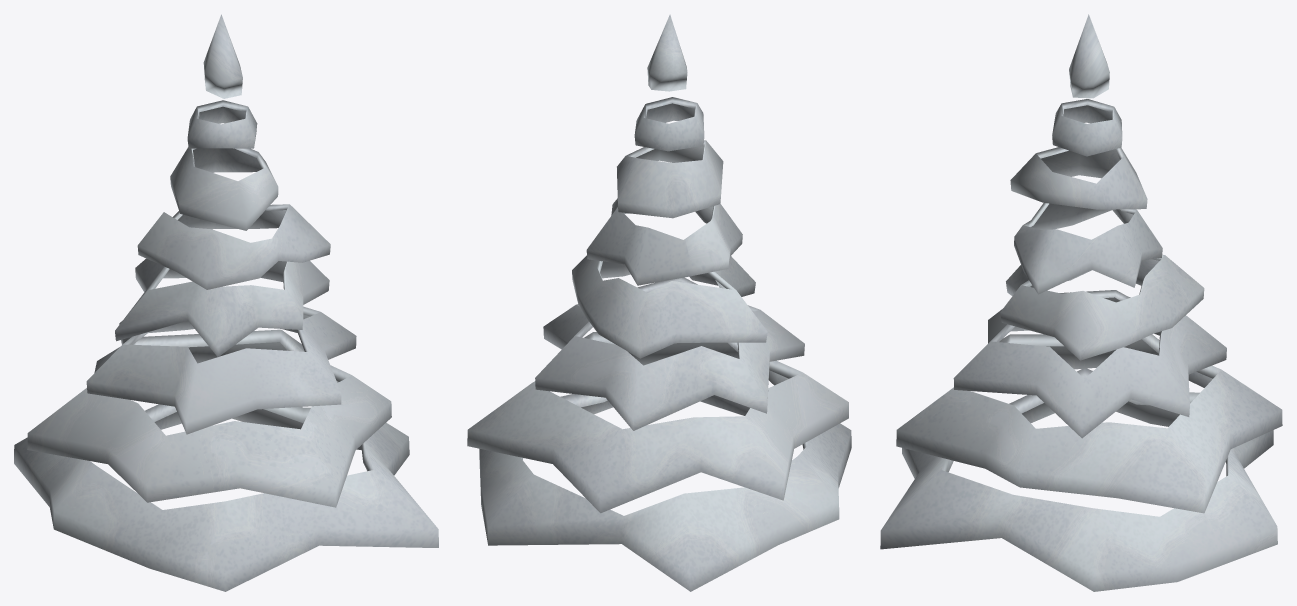
File: PineTree_4_Snow.fbx
3 views of the same model, side by side, from view 1: azimuth 30°, elevation 25°; view 2: azimuth 150°, elevation 25°; view 3: azimuth 270°, elevation 25° (orthographic).
Parts seen in each view (by area): view 1: PineTree_4_Snow_LOD0; view 2: PineTree_4_Snow_LOD0; view 3: PineTree_4_Snow_LOD0.
Part boxes in pixels (x1,y1,x2,y2): PineTree_4_Snow_LOD0: [14, 14, 438, 591]; PineTree_4_Snow_LOD0: [467, 14, 851, 591]; PineTree_4_Snow_LOD0: [880, 14, 1282, 591].
Size of what is drawn, in the model's own units: 604 by 802 by 588.
